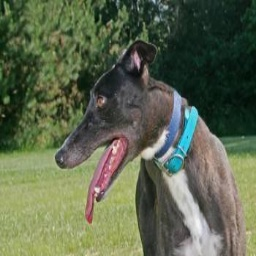dog: (51, 40, 246, 256)
